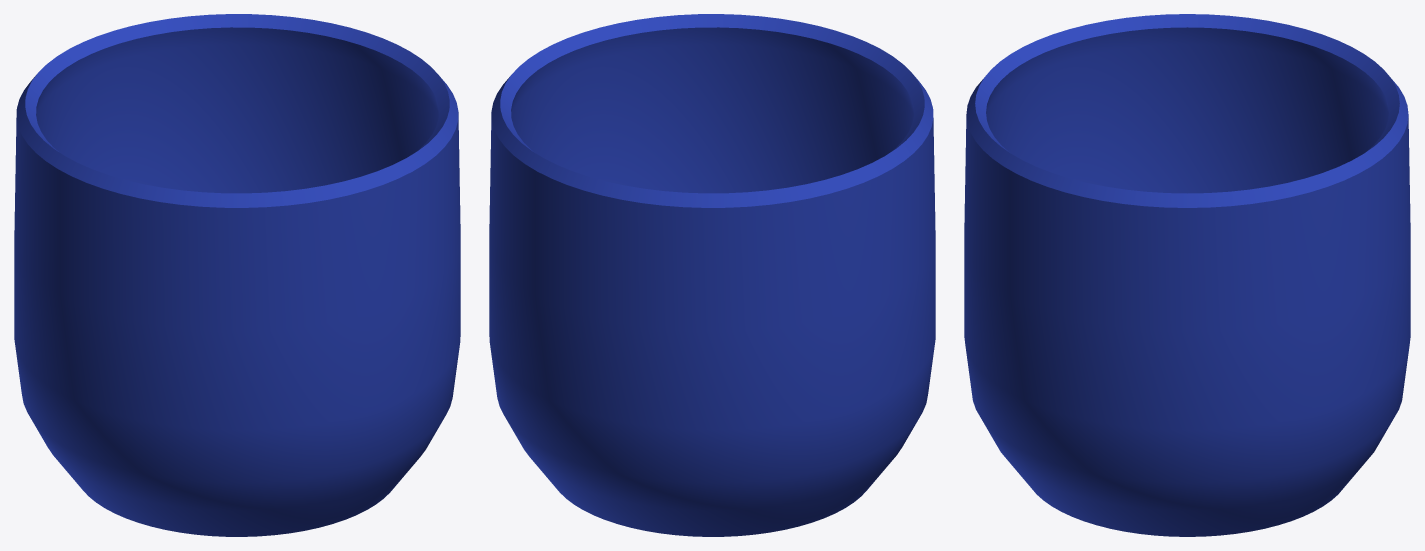
File: cup5.obj
3 views of the same model, side by side, from view 1: azimuth 30°, elevation 25°; view 2: azimuth 150°, elevation 25°; view 3: azimuth 270°, elevation 25° (orthographic).
Visible parts, largest first — view 1: Cup5.001; view 2: Cup5.001; view 3: Cup5.001.
Part boxes in pixels (x1,y1,x2,y2): Cup5.001: (14,14,460,536); Cup5.001: (489,14,935,536); Cup5.001: (964,14,1410,536).
Size of the model in its own units: 1.49 by 1.34 by 1.49.
